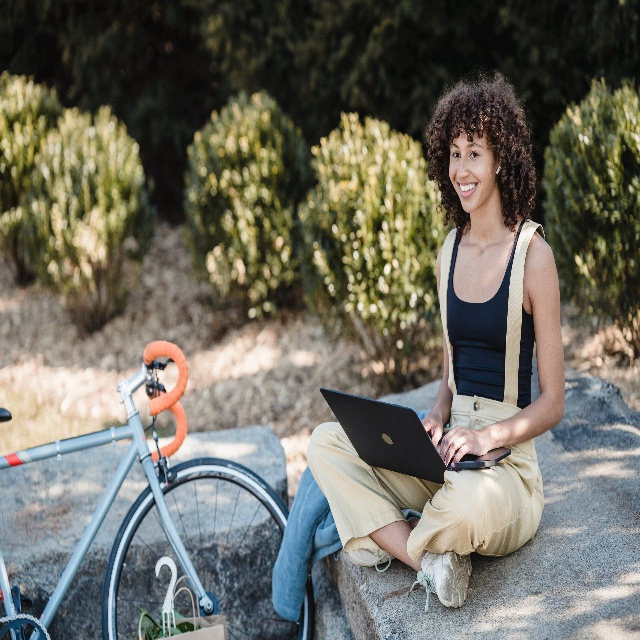Sin_guantes: (439, 425, 490, 468), (420, 409, 443, 448)
